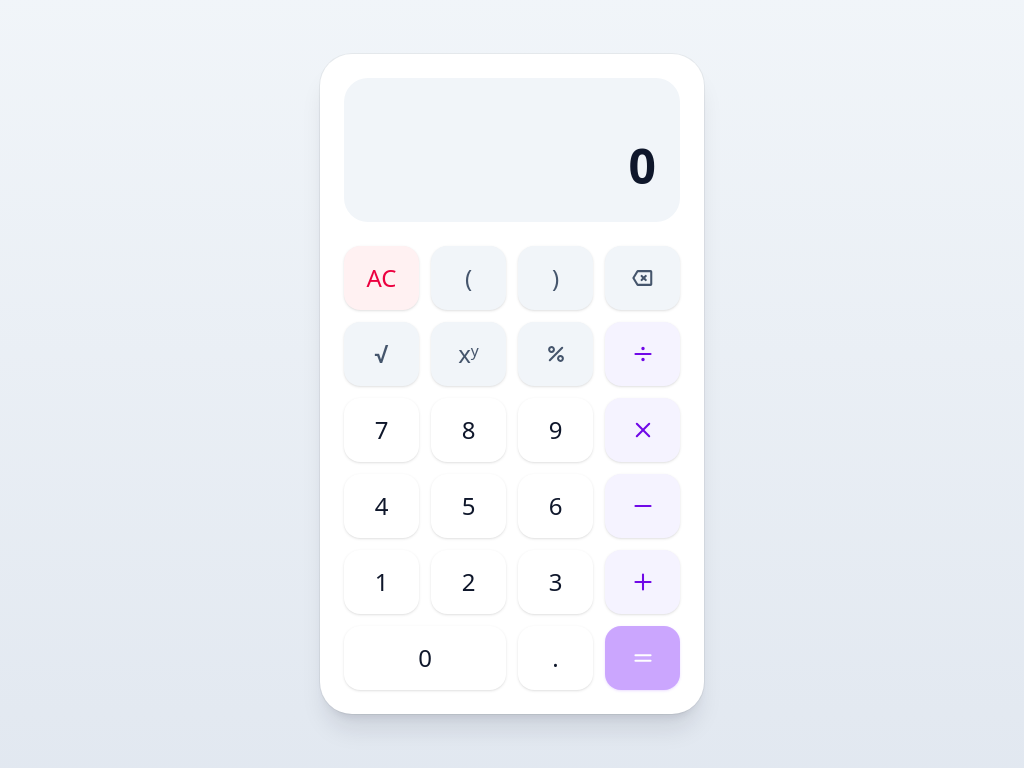
Test: App › renders the backend error message verbatim when the API rejects
Click the button "5" at (468, 506), box [431,474,506,538]
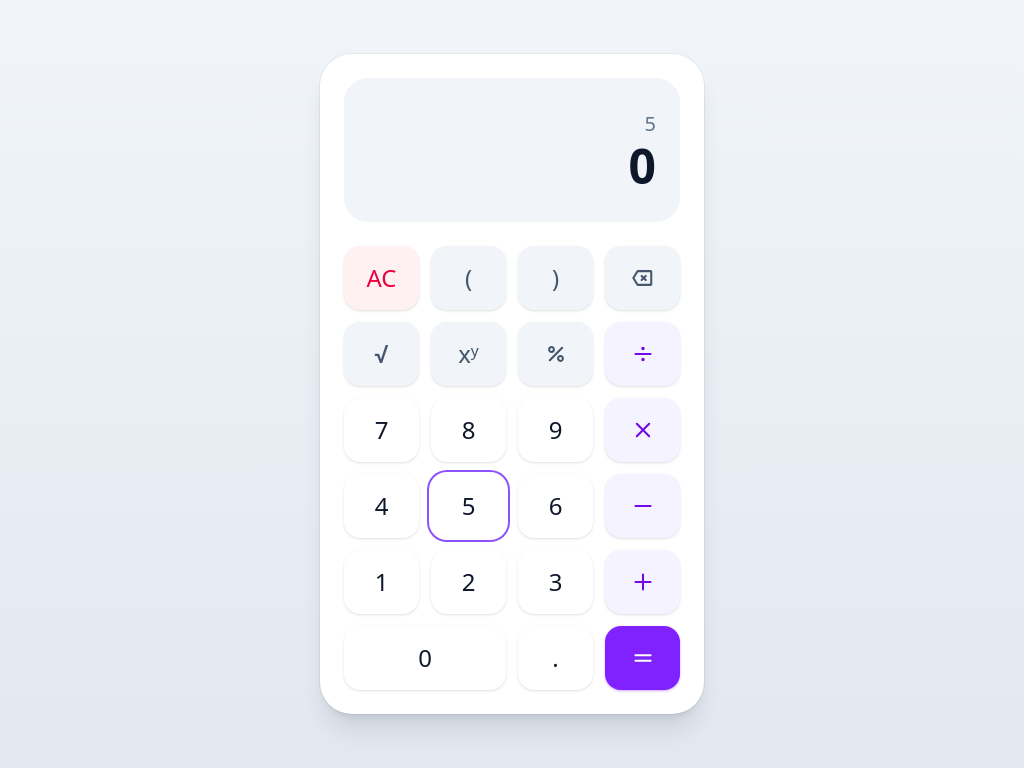
Click the button named "Divide" at (642, 354), box [605,322,680,386]
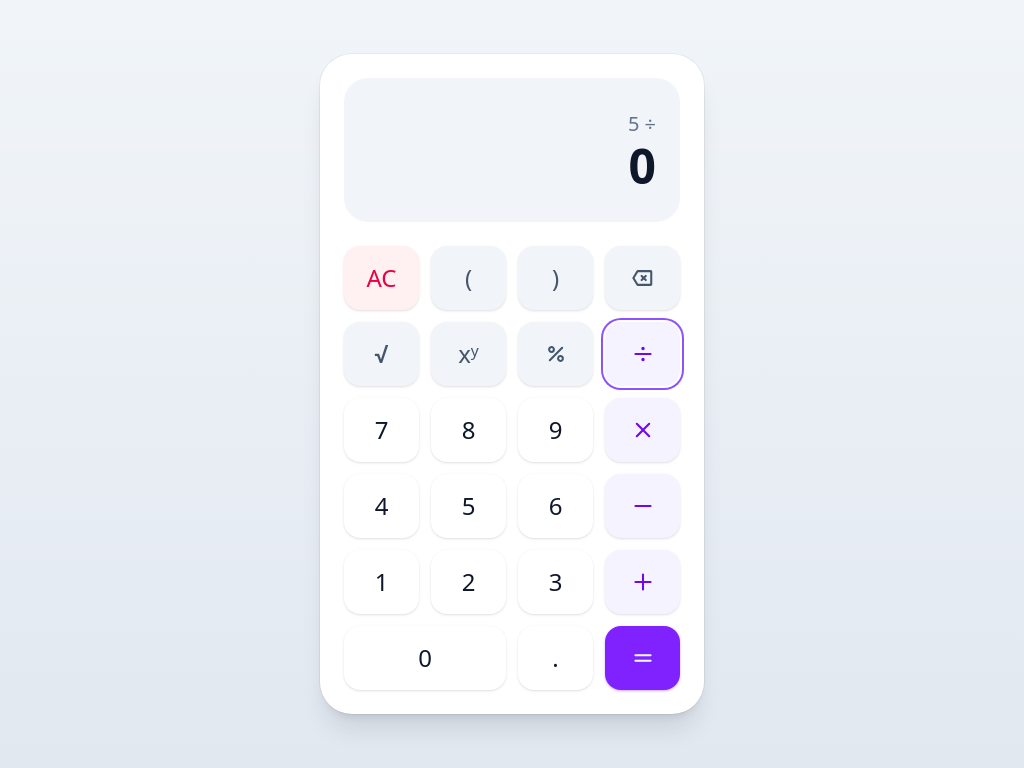
Click the button "0" at (425, 658), box [344,626,506,690]
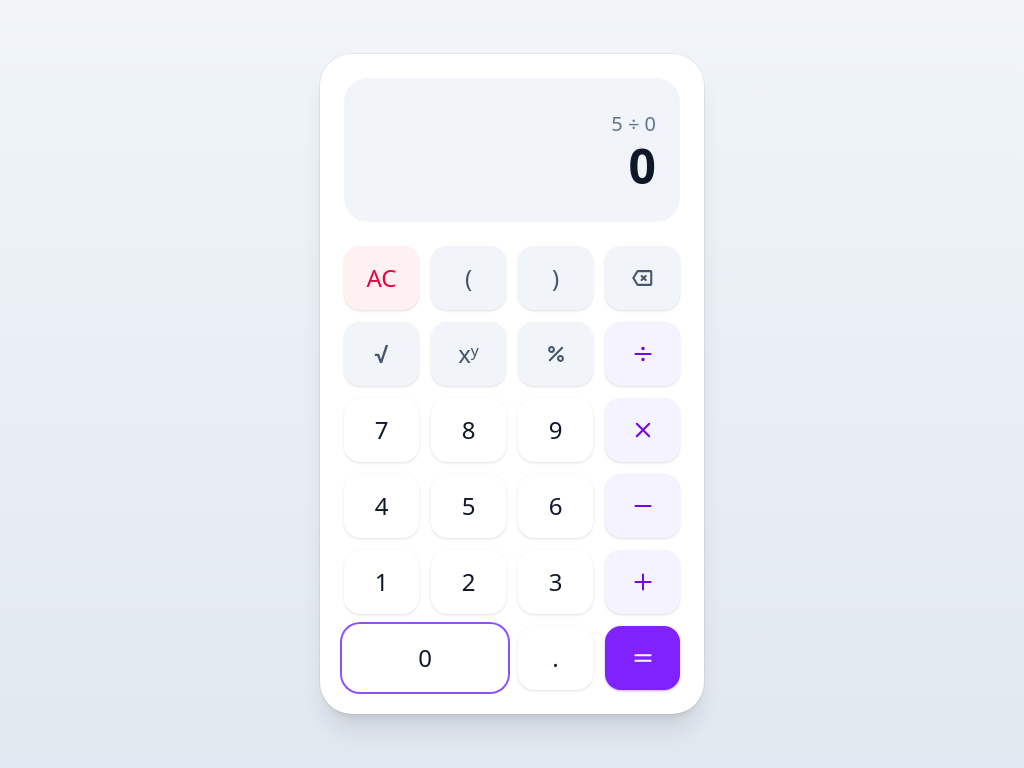
Click the button named "Equals" at (642, 658), box [605,626,680,690]
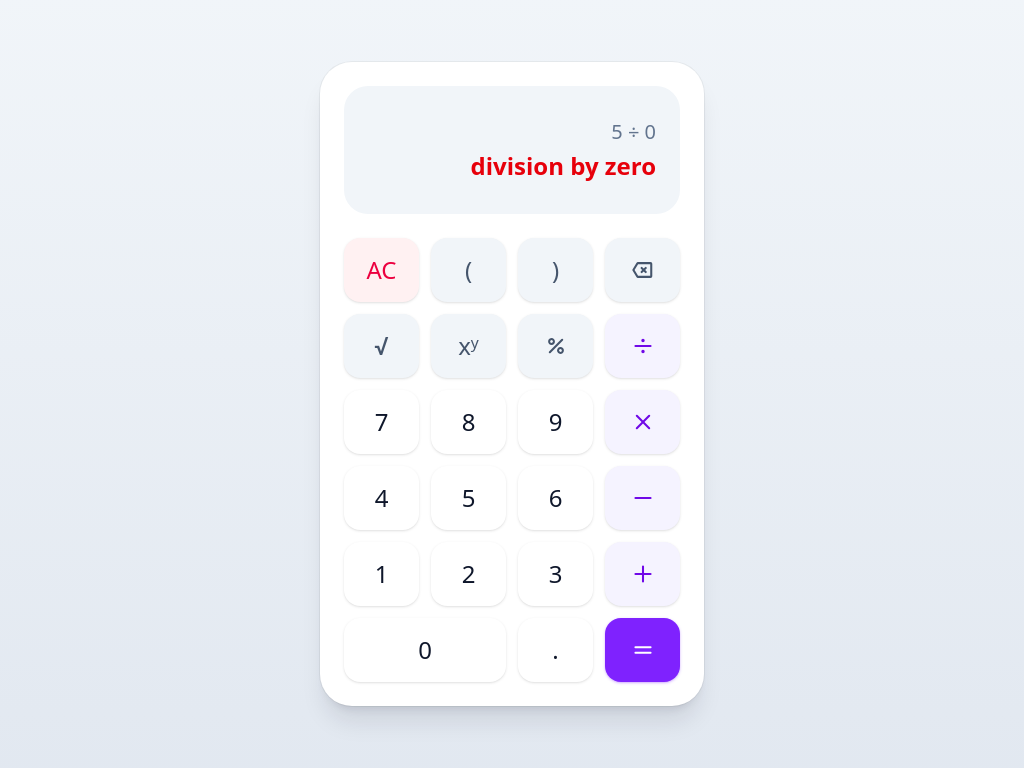
Result: the text "division by zero" is shown at [471,149,656,182]
